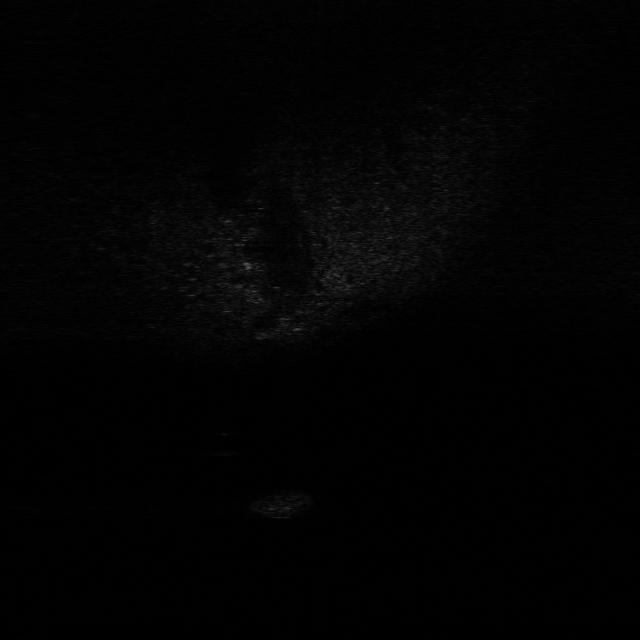ball: (206, 427, 242, 459)
circle cage: (253, 482, 323, 520)
